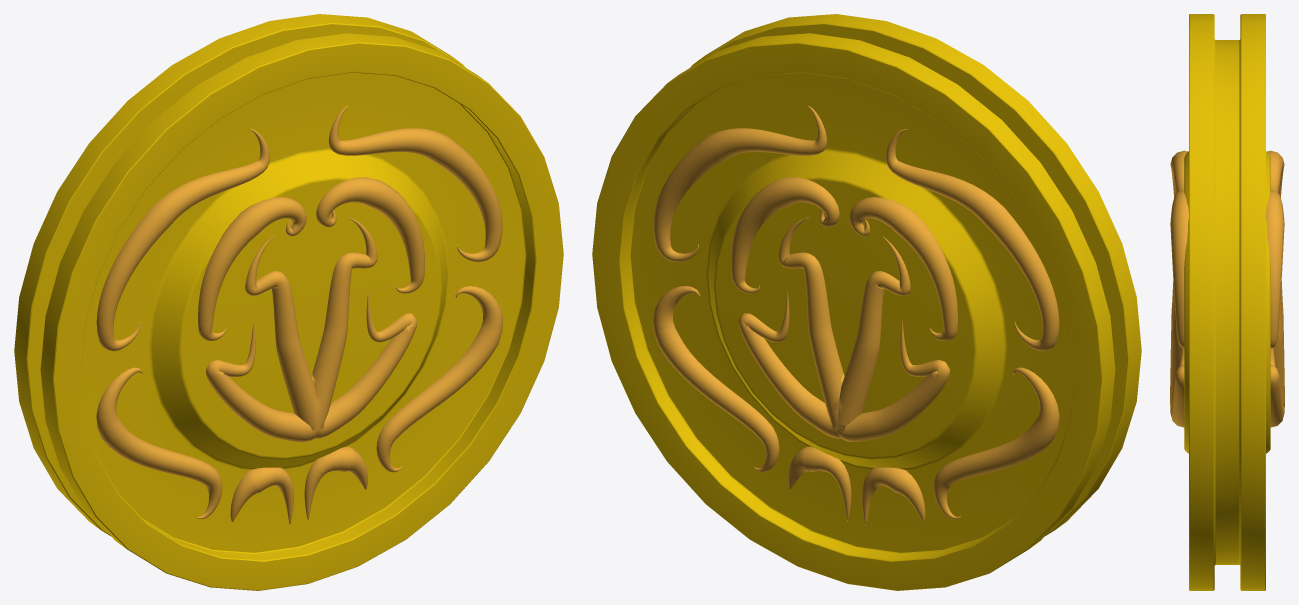
File: coin.fbx
3 views of the same model, side by side, from view 1: azimuth 30°, elevation 25°; view 2: azimuth 150°, elevation 25°; view 3: azimuth 270°, elevation 25° (orthographic). The views are drawn at different scales.
Visible parts, largest first — view 1: Cylinder, BezierCurve; view 2: Cylinder, BezierCurve; view 3: Cylinder, BezierCurve.
Part boxes in pixels (x1=…): Cylinder: x1=14, y1=14, x2=563, y2=590; BezierCurve: x1=96, y1=105, x2=502, y2=525; Cylinder: x1=592, y1=14, x2=1141, y2=590; BezierCurve: x1=653, y1=105, x2=1059, y2=525; Cylinder: x1=1184, y1=14, x2=1270, y2=590; BezierCurve: x1=1170, y1=150, x2=1284, y2=427.
Bounding box in the file's own units: 0.8 × 0.1593 × 0.8.
